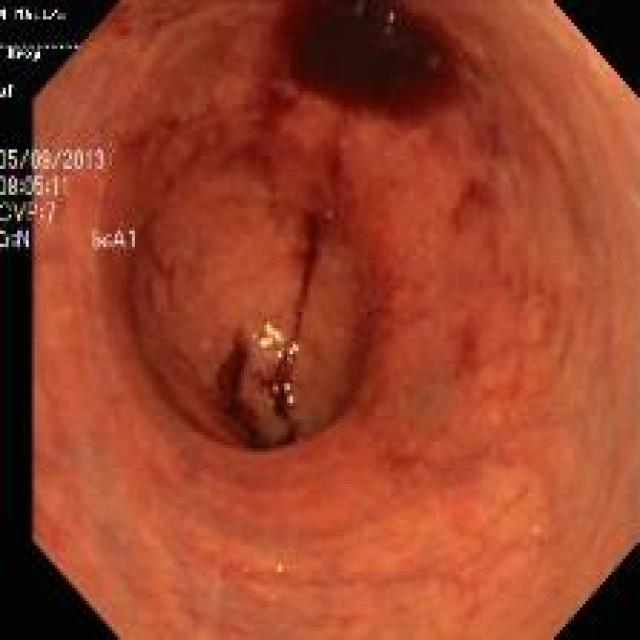ulcerative-colitis-grade-1: (35, 3, 640, 640)
